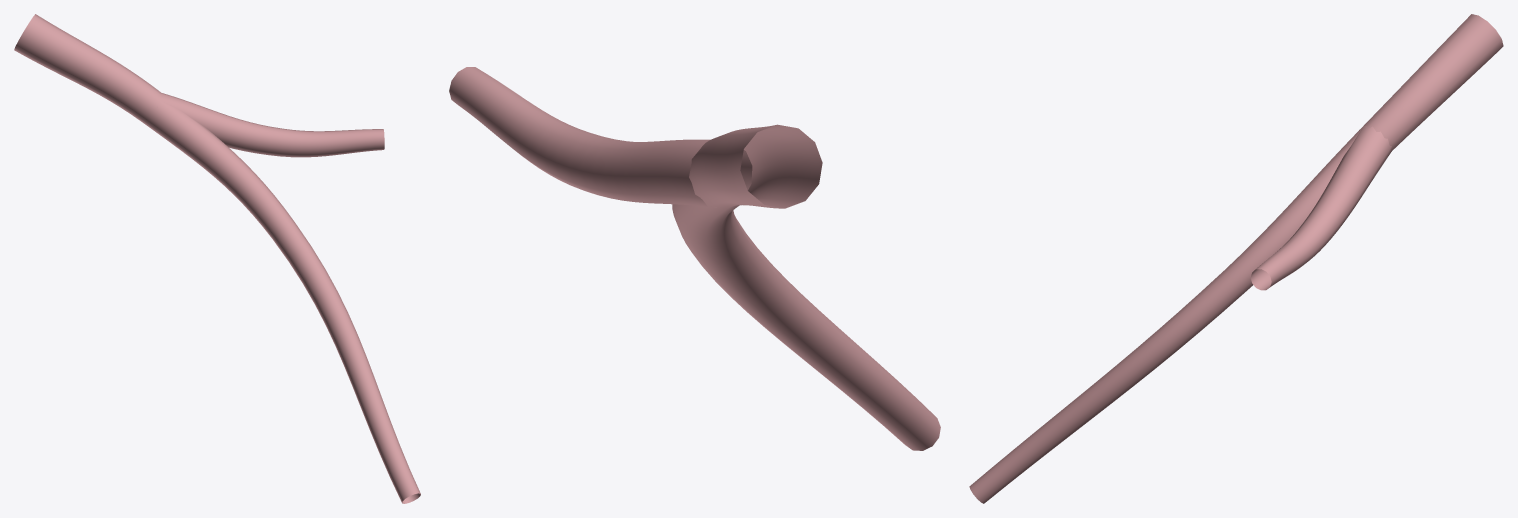
3 renders of one model, left to right at view 1: azimuth 30°, elevation 25°; view 2: azimuth 150°, elevation 25°; view 3: azimuth 270°, elevation 25°, orthographic. The views are drawn at different scales.
Parts seen in each view (by area): view 1: ZA_4a0555002f4081de; view 2: ZA_4a0555002f4081de; view 3: ZA_4a0555002f4081de.
Part boxes in pixels (bbox=[...]): ZA_4a0555002f4081de: bbox=[14, 14, 420, 503]; ZA_4a0555002f4081de: bbox=[449, 67, 940, 450]; ZA_4a0555002f4081de: bbox=[969, 14, 1503, 503].
Size of the model in its own units: 0.0455 by 0.0569 by 0.0682.
